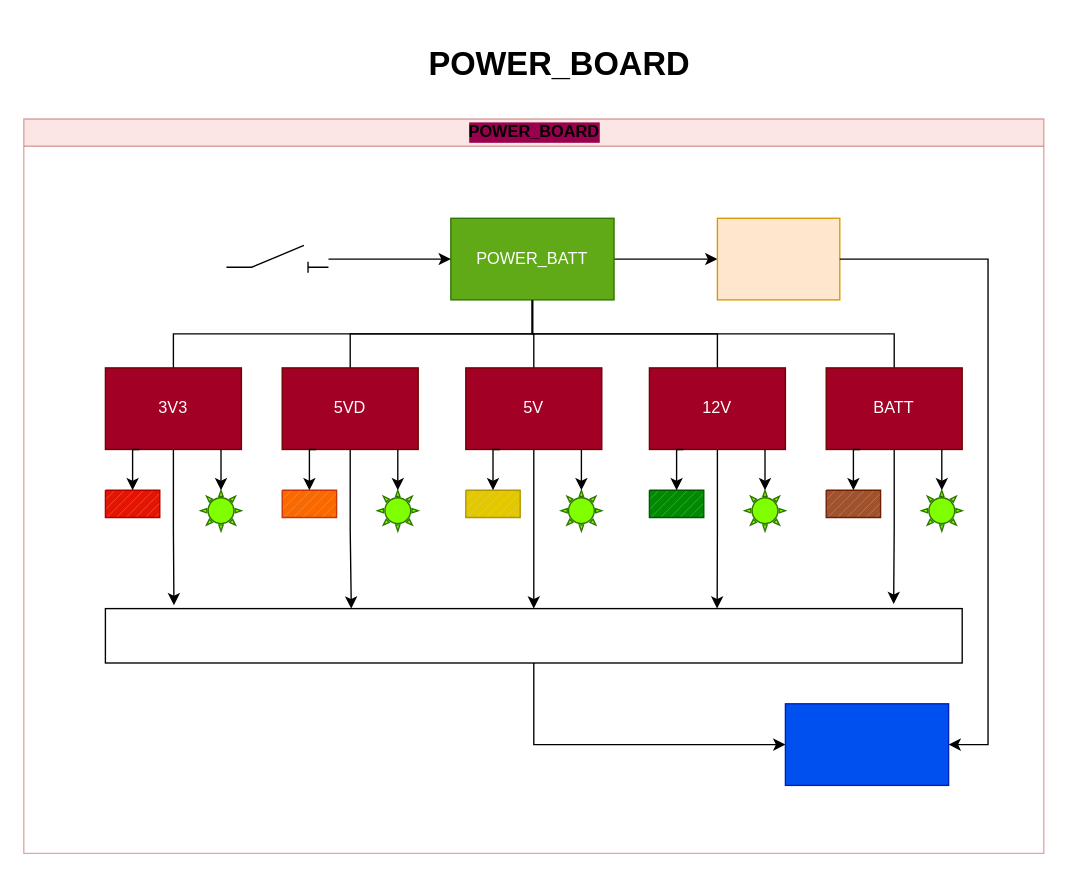
The diagram is 1068 pixels wide and 877 high, and some of its shapes have lost their labels. Here are the shapes that lost their labels. From the top down, the centre of each, then its label:
At pixel 778 258: "CURRENT SENSOR".
At pixel 533 635: "VOLTAGE SENSOR".
At pixel 866 743: "I2C BUS".
